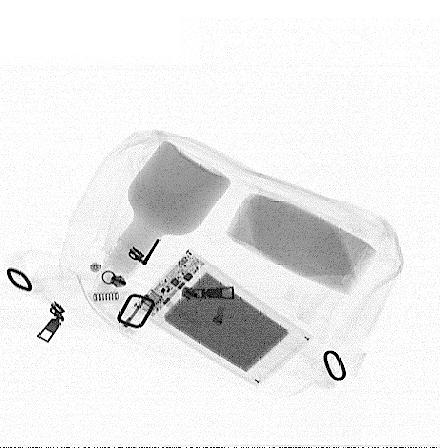Powerbank: (131, 247, 313, 388)
